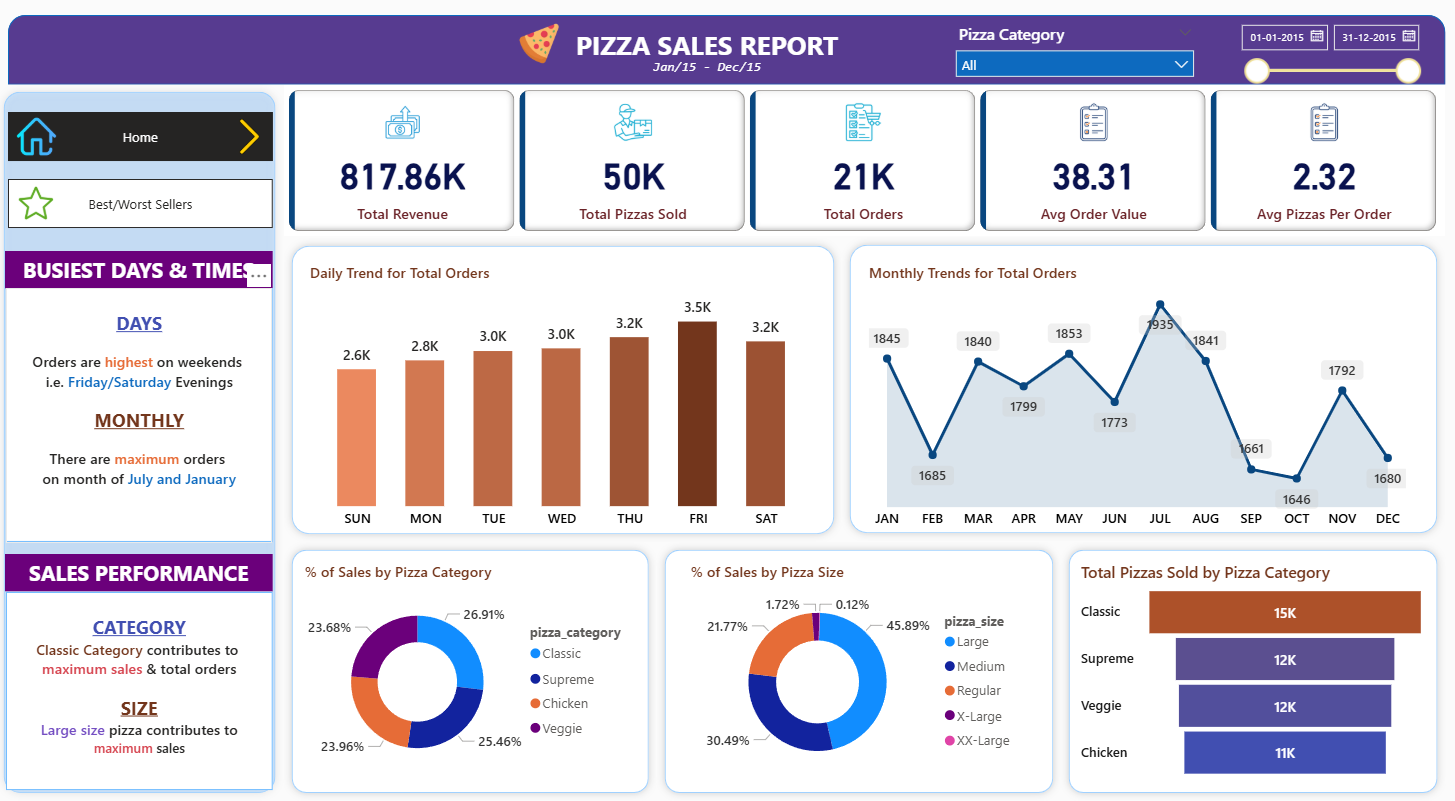

What the dashboard file says about the page in this screenshot:
{"tool":"powerbi","page":{"name":"Home","canvas":[1500,820],"ordinal":0},"visuals":[{"type":"shape","box":[0,89,293,731],"z":0},{"type":"cardVisual","fields":{"Data":["pizza_sales.Total Revenue","pizza_sales.Total Pizzas Sold","pizza_sales.Total Orders","pizza_sales.Avg Order Value","pizza_sales.Avg Pizzas Per Order"]},"box":[294,90,1184,154],"z":1000},{"type":"shape","box":[12,18,1466,71],"z":2000},{"type":"textbox","box":[580,25,290,47.5],"z":3000},{"type":"textbox","box":[620,56,210,33],"z":4000},{"type":"image","box":[509,21,90,52],"z":5000},{"type":"shape","box":[293.6,245.5,569.1,310],"z":6000},{"type":"columnChart","title":"Daily Trend for Total Orders","fields":{"Category":["pizza_sales.Order Day"],"Y":["pizza_sales.Total Orders"]},"box":[315.6,270,524.4,280],"z":7000},{"type":"shape","box":[862.5,245,615,310],"z":8000},{"type":"areaChart","title":"Monthly Trends for Total Orders","fields":{"Category":["pizza_sales.Order Month"],"Y":["pizza_sales.Total Orders"]},"box":[885.6,270,557.8,280],"z":9000},{"type":"shape","box":[294,556,380,264],"z":10000},{"type":"shape","box":[674,556,412,264],"z":11000},{"type":"shape","box":[1086,556,392,264],"z":12000},{"type":"donutChart","title":"% of Sales by Pizza Category","fields":{"Category":["pizza_sales.pizza_category"],"Y":["pizza_sales.Total Revenue"]},"box":[310,575,348.3,226.7],"z":13000},{"type":"donutChart","title":"% of Sales by Pizza Size","fields":{"Y":["pizza_sales.Total Revenue"],"Category":["pizza_sales.pizza_size"]},"box":[703.3,575,348.3,226.7],"z":14000},{"type":"funnel","title":"Total Pizzas Sold by Pizza Category","fields":{"Category":["pizza_sales.pizza_category"],"Y":["pizza_sales.Total Pizzas Sold"]},"box":[1101.7,575,361.7,226.7],"z":15000},{"type":"textbox","box":[9.1,259.1,272.7,38.2],"z":16000},{"type":"textbox","box":[10,297.3,271.8,259.1],"z":17000},{"type":"textbox","box":[9.1,568.2,272.7,38.2],"z":18000},{"type":"textbox","box":[10,606.4,271.8,201.8],"z":19000},{"type":"slicer","fields":{"Values":["pizza_sales.pizza_category"]},"box":[969,21,263,70],"z":20000},{"type":"slicer","fields":{"Values":["pizza_sales.order_date"]},"box":[1258,18,204,88],"z":21000},{"type":"pageNavigator","box":[12,117,270,50],"z":22000},{"type":"pageNavigator","box":[12,186,270,50],"z":23000},{"type":"image","box":[235,119,47,46],"z":24000},{"type":"image","box":[12,188,57,45],"z":25000},{"type":"image","box":[16,117,50,50],"z":26000}]}

Visuals, with their boxes in screenshot pixels (x1, y1, x2, y2), scaled from the page's 1500x820 canvas onto the 1455x801 screenshot:
shape: [x1=0, y1=87, x2=284, y2=800]
cardVisual - pizza_sales.Total Revenue x pizza_sales.Total Pizzas Sold: [x1=285, y1=88, x2=1434, y2=238]
shape: [x1=12, y1=18, x2=1434, y2=87]
textbox: [x1=563, y1=24, x2=844, y2=71]
textbox: [x1=601, y1=55, x2=805, y2=87]
image: [x1=494, y1=21, x2=581, y2=71]
shape: [x1=285, y1=240, x2=837, y2=543]
"Daily Trend for Total Orders" columnChart: [x1=306, y1=264, x2=815, y2=537]
shape: [x1=837, y1=239, x2=1433, y2=542]
"Monthly Trends for Total Orders" areaChart: [x1=859, y1=264, x2=1400, y2=537]
shape: [x1=285, y1=543, x2=654, y2=800]
shape: [x1=654, y1=543, x2=1053, y2=800]
shape: [x1=1053, y1=543, x2=1434, y2=800]
"% of Sales by Pizza Category" donutChart: [x1=301, y1=562, x2=639, y2=783]
"% of Sales by Pizza Size" donutChart: [x1=682, y1=562, x2=1020, y2=783]
"Total Pizzas Sold by Pizza Category" funnel: [x1=1069, y1=562, x2=1419, y2=783]
textbox: [x1=9, y1=253, x2=273, y2=290]
textbox: [x1=10, y1=290, x2=273, y2=544]
textbox: [x1=9, y1=555, x2=273, y2=592]
textbox: [x1=10, y1=592, x2=273, y2=789]
slicer - pizza_sales.pizza_category: [x1=940, y1=21, x2=1195, y2=89]
slicer - pizza_sales.order_date: [x1=1220, y1=18, x2=1418, y2=104]
pageNavigator: [x1=12, y1=114, x2=274, y2=163]
pageNavigator: [x1=12, y1=182, x2=274, y2=231]
image: [x1=228, y1=116, x2=274, y2=161]
image: [x1=12, y1=184, x2=67, y2=228]
image: [x1=16, y1=114, x2=64, y2=163]
